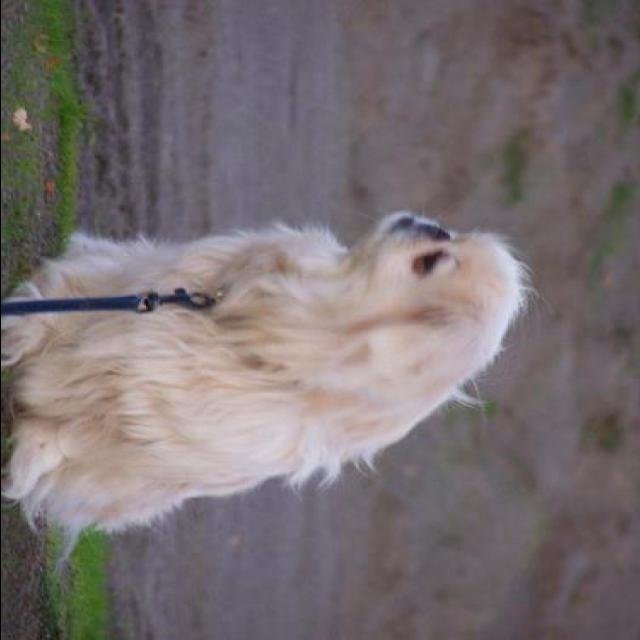pekinese: (2, 209, 546, 559)
